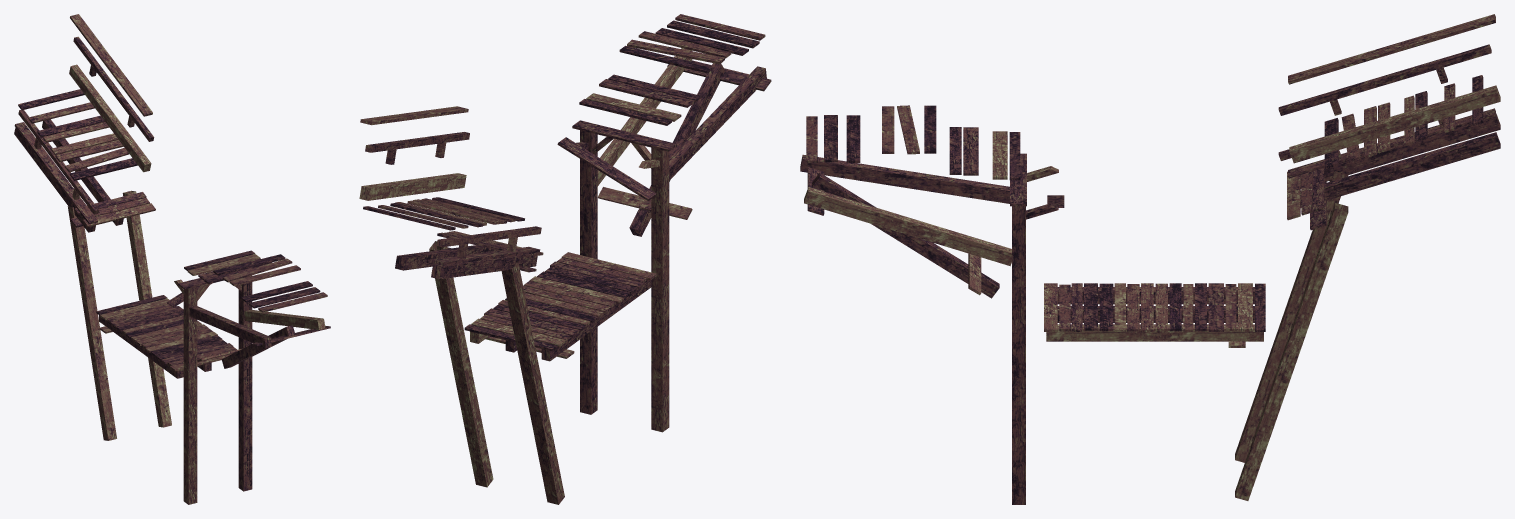
File: PonteMaisFeiaDoMundoQuebrada.fbx
3 renders of one model, left to right at view 1: azimuth 30°, elevation 25°; view 2: azimuth 150°, elevation 25°; view 3: azimuth 270°, elevation 25°, orthographic. The views are drawn at different scales.
Visible parts, largest first — view 1: Wooden_bridge-material.022, Wooden_bridge-material.037, Wooden_bridge-material.050, Wooden_bridge-material.015, Wooden_bridge-material.046; view 2: Wooden_bridge-material.037, Wooden_bridge-material.022, Wooden_bridge-material.015, Wooden_bridge-material.050, Wooden_bridge-material.046, Wooden_bridge-material.053, Wooden_bridge-material.051, Wooden_bridge-material.049; view 3: Wooden_bridge-material.022, Wooden_bridge-material.037, Wooden_bridge-material.015, Wooden_bridge-material.046, Wooden_bridge-material.050.
Boxes of the visible parts, x1,y1,x2,y2 form: Wooden_bridge-material.022: [14, 14, 155, 232]; Wooden_bridge-material.037: [184, 250, 330, 368]; Wooden_bridge-material.050: [183, 275, 252, 504]; Wooden_bridge-material.015: [96, 295, 238, 378]; Wooden_bridge-material.046: [67, 190, 171, 440]; Wooden_bridge-material.037: [579, 14, 771, 236]; Wooden_bridge-material.022: [359, 106, 543, 279]; Wooden_bridge-material.015: [464, 252, 656, 361]; Wooden_bridge-material.050: [580, 130, 669, 432]; Wooden_bridge-material.046: [429, 241, 564, 504]; Wooden_bridge-material.053: [557, 137, 656, 200]; Wooden_bridge-material.051: [572, 120, 676, 151]; Wooden_bridge-material.049: [575, 137, 659, 168]; Wooden_bridge-material.022: [1278, 14, 1500, 230]; Wooden_bridge-material.037: [800, 105, 1020, 298]; Wooden_bridge-material.015: [1044, 283, 1265, 347]; Wooden_bridge-material.046: [1235, 171, 1348, 500]; Wooden_bridge-material.050: [1012, 206, 1025, 504].
Bounding box in the file's own units: 428 × 1916 × 2508.
Materials: 3 (3 with a texture image).
